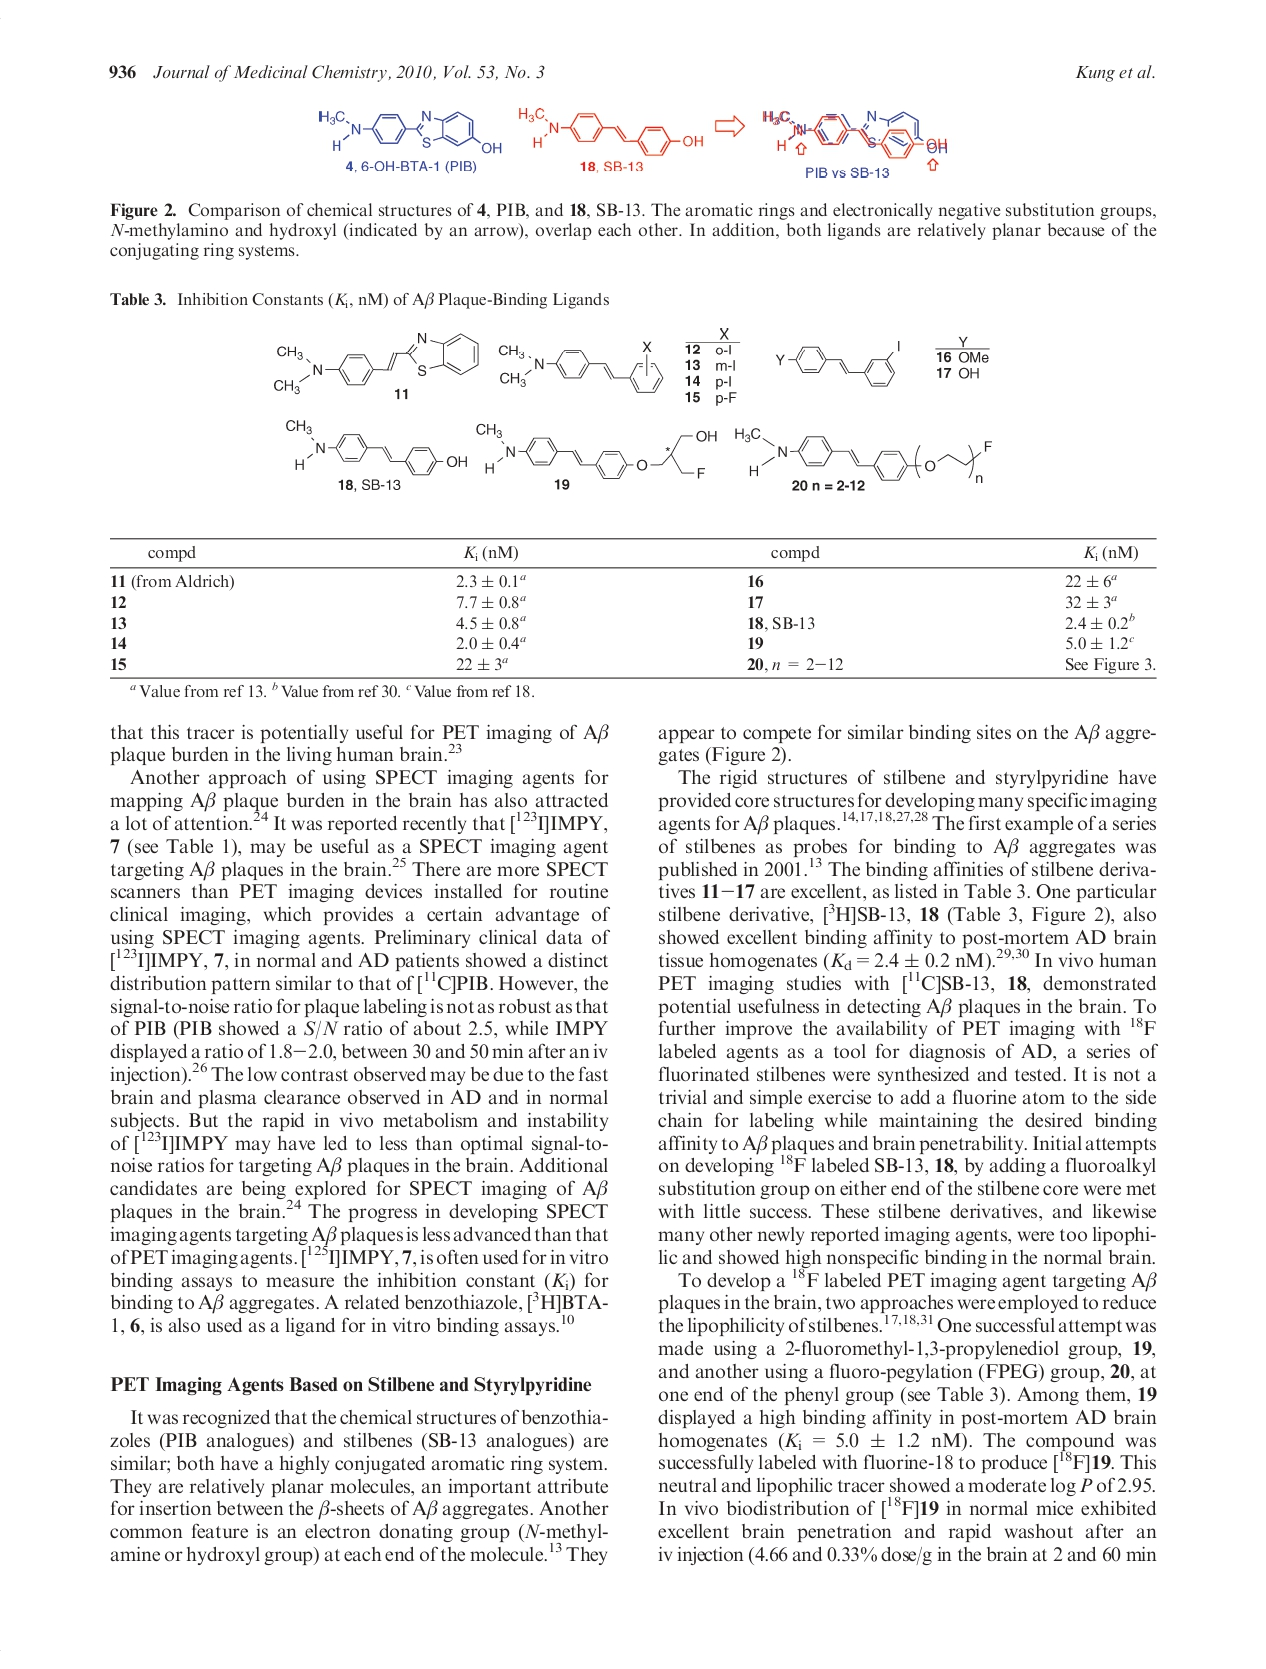exist_molecular: (733, 424, 993, 485), (476, 419, 717, 481), (273, 328, 481, 394), (277, 418, 468, 477), (761, 108, 949, 164), (497, 334, 664, 396), (516, 106, 705, 158), (316, 106, 503, 154), (777, 335, 902, 390)
